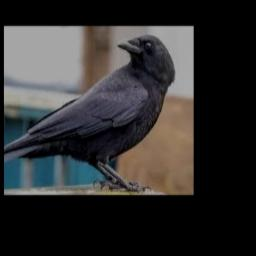Crow: (4, 35, 176, 192)
